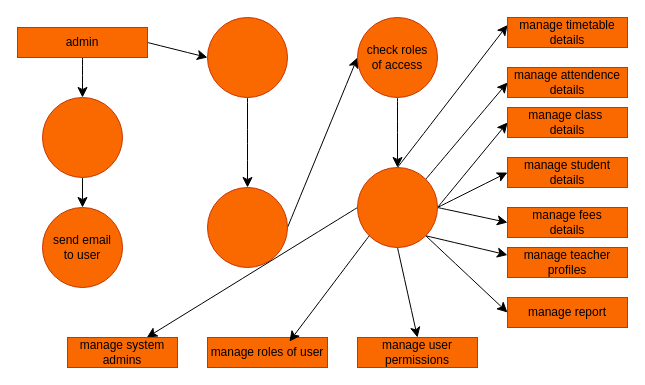
Image size: 645x385. Some labels were removed from this diagram. The centre of each missing label's shape, as x and y in pixels:
"check credentials" goes at (247,227).
"forgot password" goes at (82,137).
"login to system" goes at (247,57).
"manage modules" goes at (397,207).
